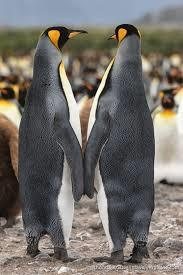king: (72, 9, 160, 275), (13, 9, 98, 268)
